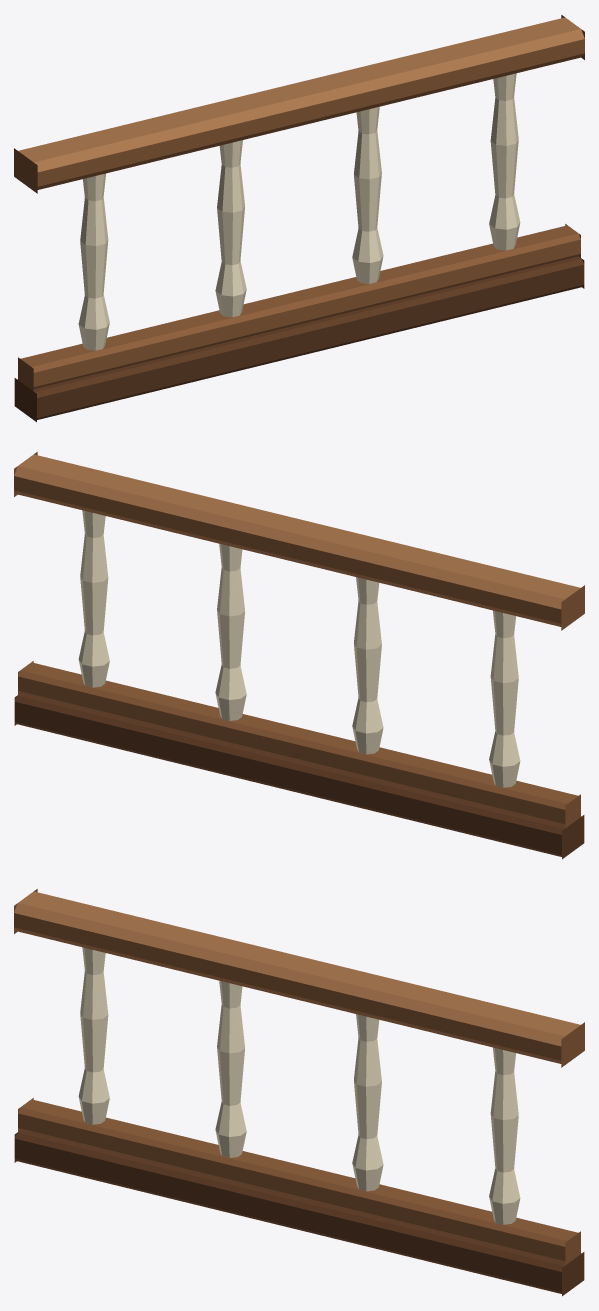
File: ship_rail_2m.glb
3 views of the same model, one above another, from view 1: azimuth 30°, elevation 25°; view 2: azimuth 150°, elevation 25°; view 3: azimuth 330°, elevation 25° (orthographic).
Parts seen in each view (by area): view 1: ship_rail_2m; view 2: ship_rail_2m; view 3: ship_rail_2m.
Boxes of the visible parts, left/top/right/bottom form: ship_rail_2m: left=14, top=15, right=584, bottom=422; ship_rail_2m: left=14, top=452, right=584, bottom=859; ship_rail_2m: left=14, top=889, right=584, bottom=1296.
Bounding box in the file's own units: 2 × 0.9 × 0.15.
Materials: 1 (1 with a texture image).
